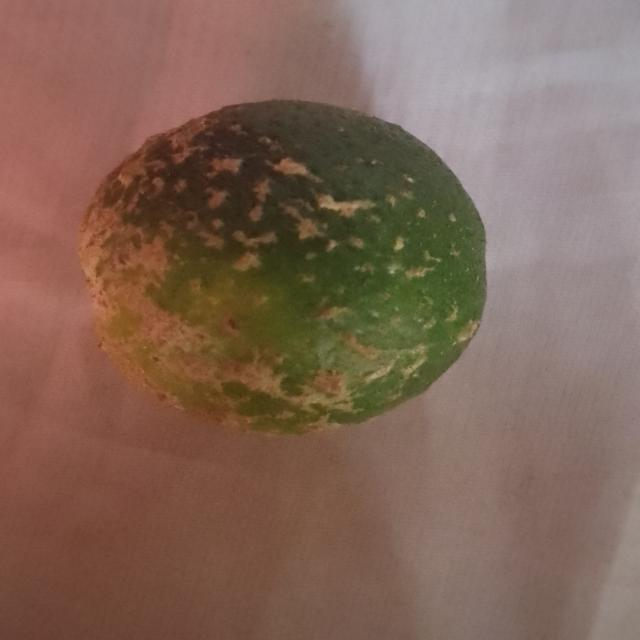scab: (74, 90, 484, 442)
